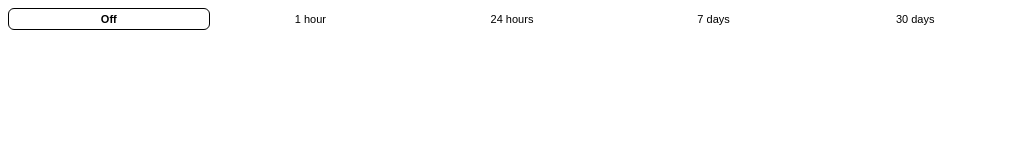
the pin switch in context (render gate) › appears, unchecked, once a window is STAGED over an applied Off
Expected: the checkbox labelled "Include pinned messages" is not shown
Click the button "24 hours": (512, 19) [411,8,613,30]
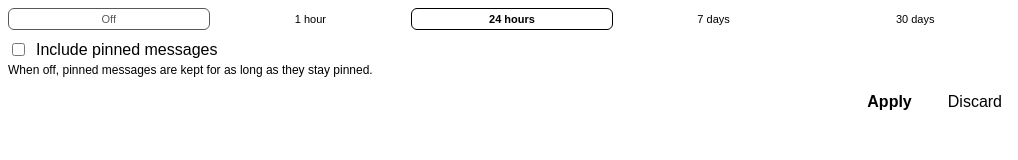
Expected: the checkbox labelled "Include pinned messages" is not checked, [12,43,25,56]
